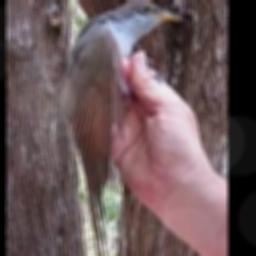Cuckoo: (61, 0, 182, 256)
